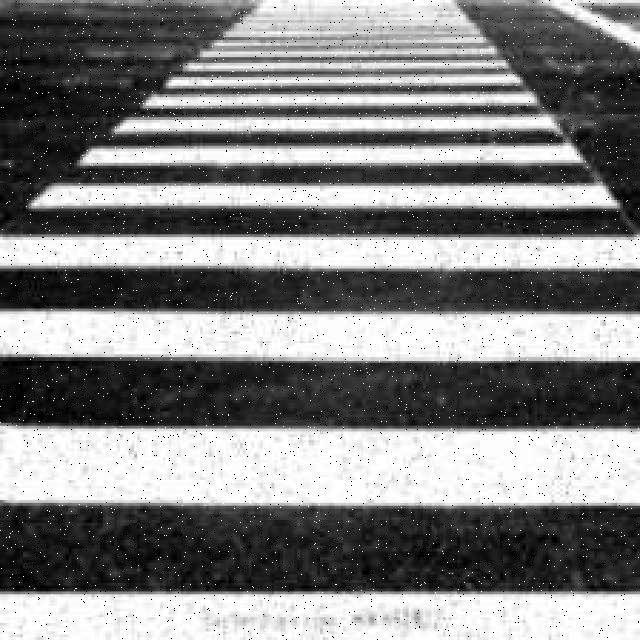crosswalk: (0, 2, 637, 630)
